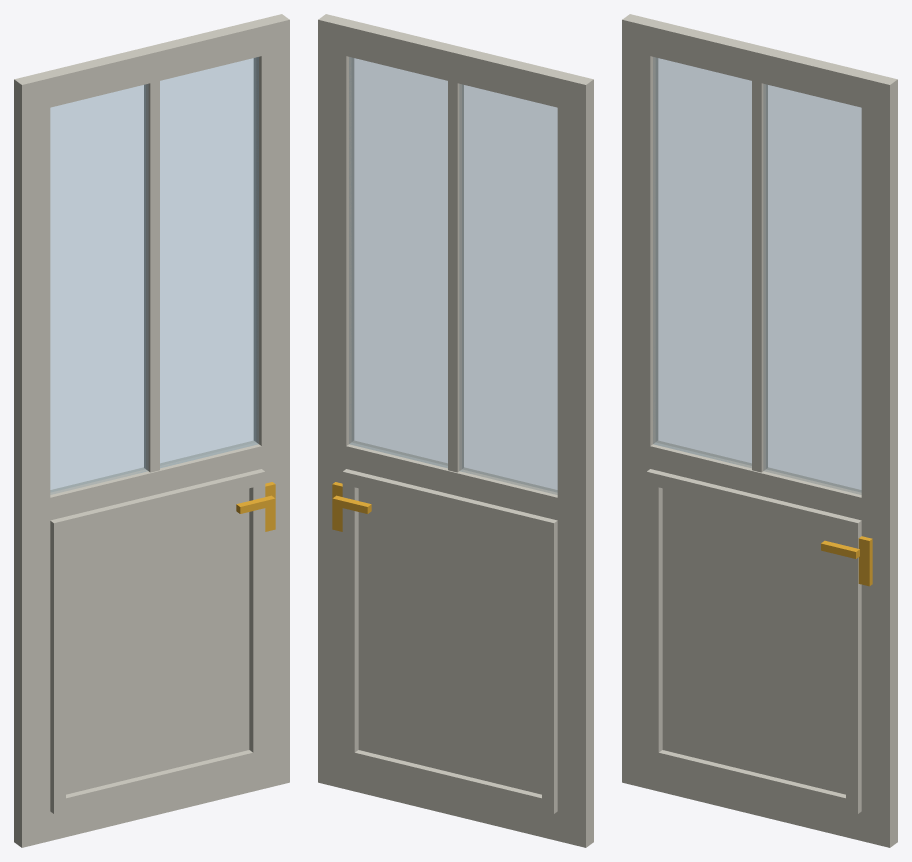
File: SM_Door_ra_100x270.fbx
3 renders of one model, left to right at view 1: azimuth 30°, elevation 25°; view 2: azimuth 150°, elevation 25°; view 3: azimuth 330°, elevation 25°, orthographic.
Visible parts, largest first — view 1: SM_Door_ra_100x270; view 2: SM_Door_ra_100x270; view 3: SM_Door_ra_100x270.
Part boxes in pixels (box(x1,y1,x2,y2)): SM_Door_ra_100x270: box(14, 14, 289, 847); SM_Door_ra_100x270: box(318, 14, 593, 847); SM_Door_ra_100x270: box(622, 14, 897, 847).
Bounding box in the file's own units: 0.988 × 2.69 × 0.175.
